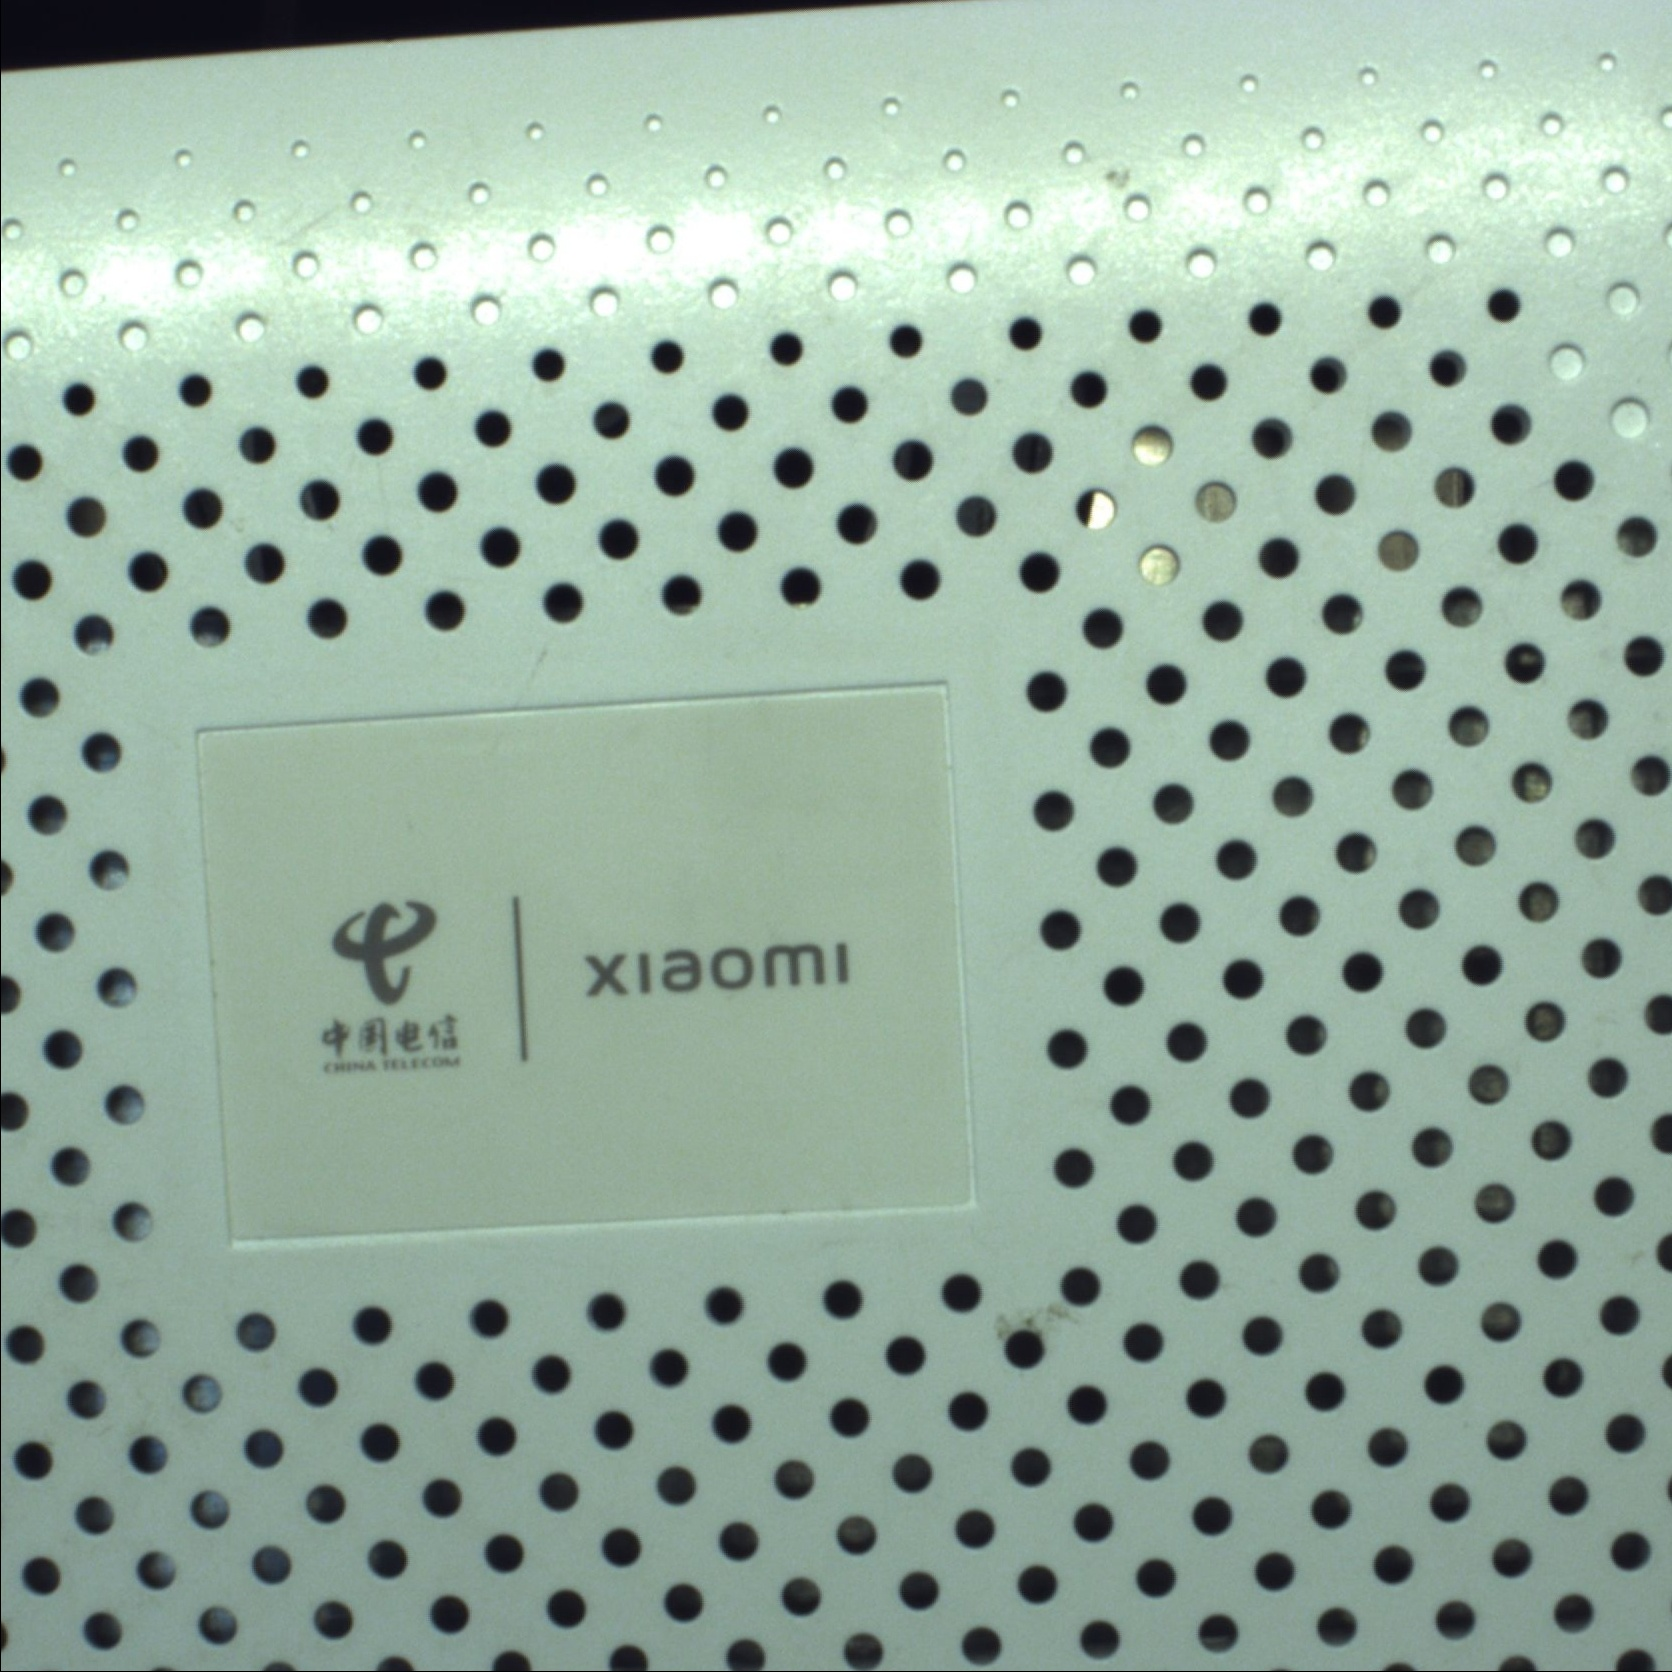MAA_Telecom: (289, 890, 857, 1078)
